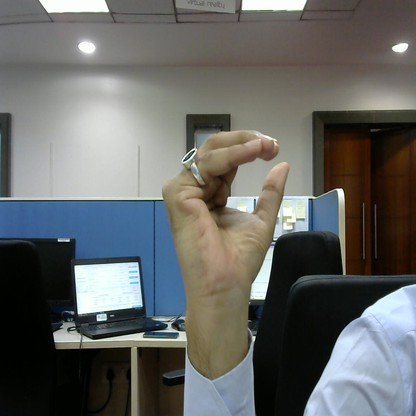c: (154, 123, 294, 289)
